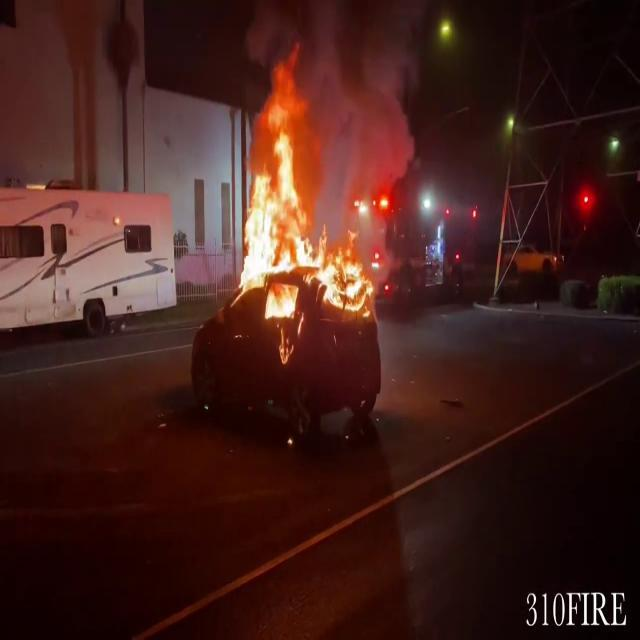Fire: (234, 53, 370, 334), (317, 235, 373, 317)
Smoke: (286, 0, 410, 226)
